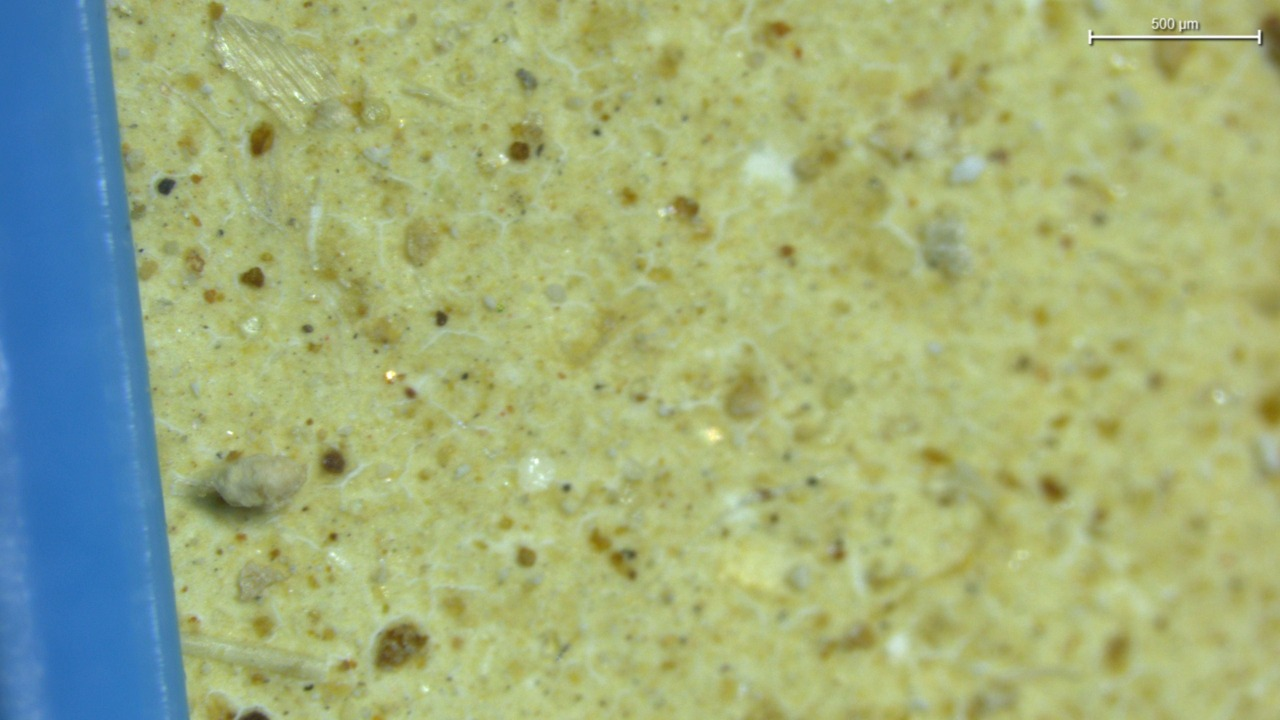microplastic_fragment: (215, 453, 307, 511)
